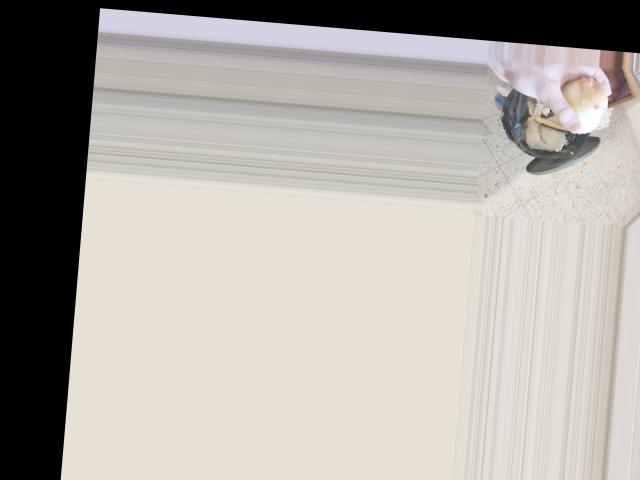onion: (552, 78, 611, 132)
